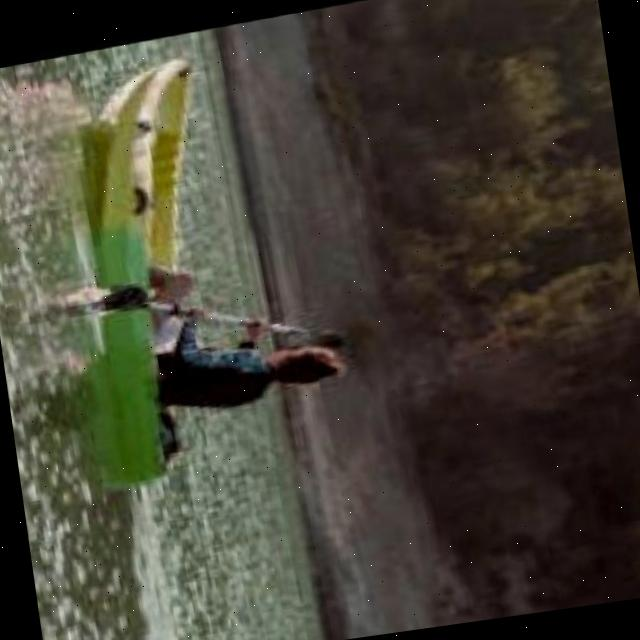kayak: (99, 57, 200, 482)
